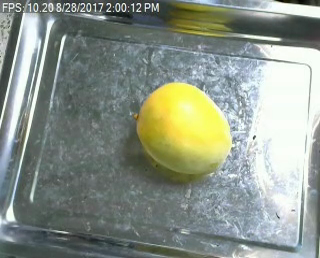Mango: (134, 81, 233, 174)
